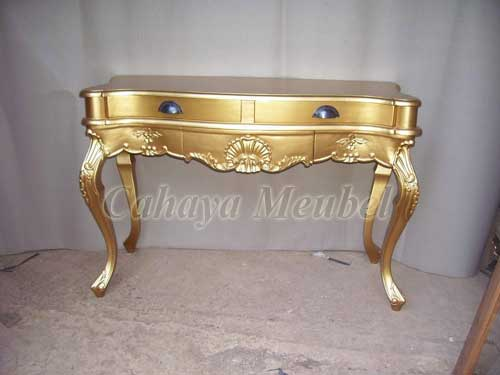Carving Table: (73, 69, 425, 312)
